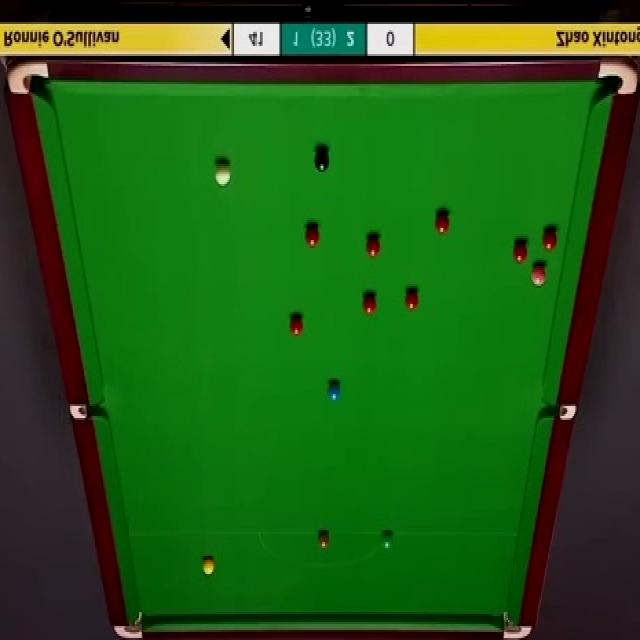black-ball: (314, 151, 331, 174)
blue-ball: (328, 378, 341, 404)
brown-ball: (317, 531, 331, 549)
green-ball: (380, 530, 395, 552)
pink-ball: (530, 266, 548, 286)
red-ball: (434, 208, 451, 235), (304, 223, 320, 250), (360, 292, 378, 315), (365, 234, 380, 258), (406, 288, 420, 312), (512, 243, 528, 264), (541, 229, 557, 250), (289, 316, 303, 337)
white-ball: (216, 158, 230, 186)
yellow-ball: (203, 555, 215, 574)
